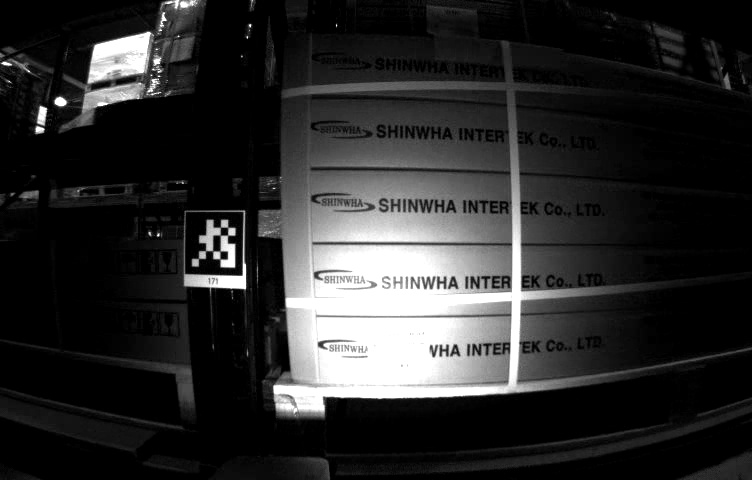True Barcode: (364, 325, 435, 376)
